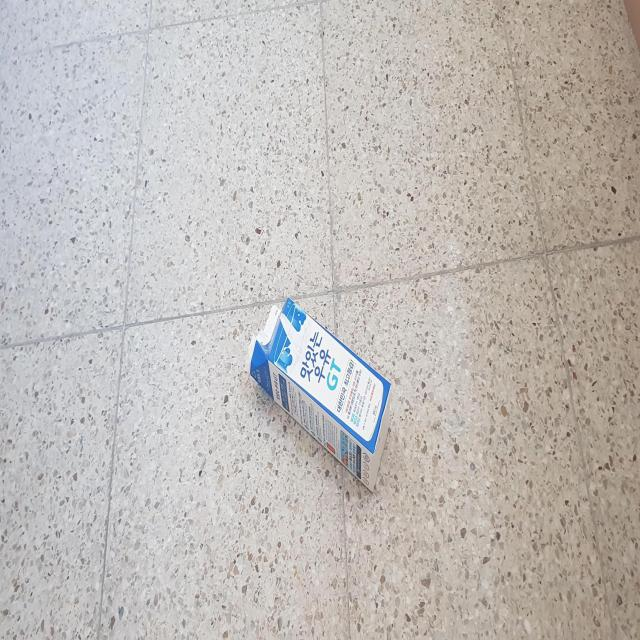paperpack: (246, 297, 391, 490)
